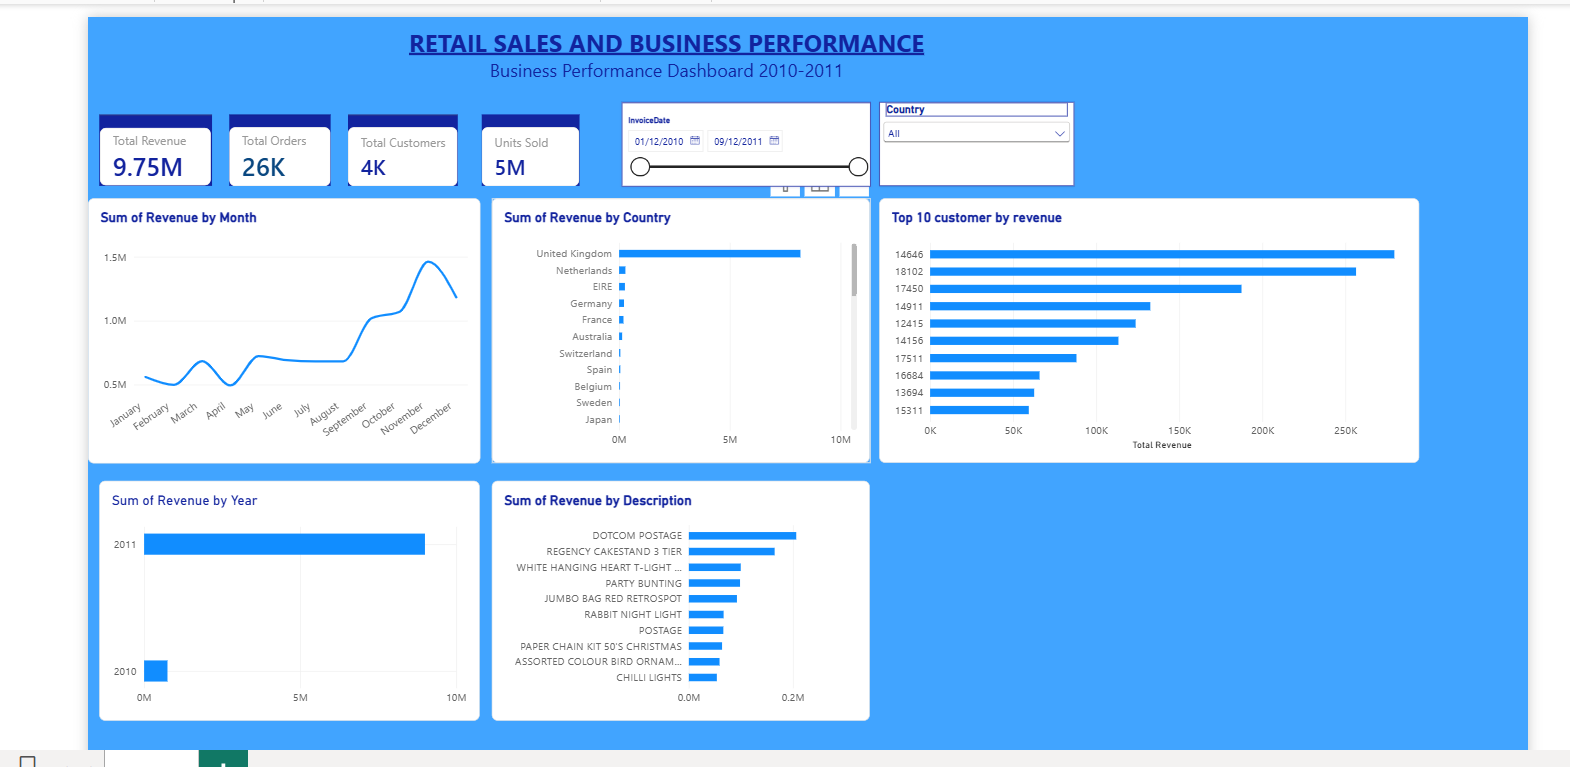

The dashboard page shown, as its layout file describes it:
{"tool":"powerbi","page":{"name":"Page 1","canvas":[1920,1080],"ordinal":0},"visuals":[{"type":"cardVisual","fields":{"Data":["data.Total Revenue"]},"box":[15,130,150,95],"z":0},{"type":"cardVisual","fields":{"Data":["data.total orders"]},"box":[188.3,130,135,95],"z":1000},{"type":"cardVisual","fields":{"Data":["data.total customers"]},"box":[346.7,130,146.7,95],"z":2000},{"type":"cardVisual","fields":{"Data":["data.units sold"]},"box":[525,130,130,95],"z":3000},{"type":"lineChart","title":"Sum of Revenue by Month","fields":{"Category":["data.InvoiceDate.Variation.Date Hierarchy.Month"],"Y":["Sum(data.Revenue)"]},"box":[0,241.7,523.3,353.3],"z":4000},{"type":"clusteredBarChart","title":"Sum of Revenue by Country","fields":{"Category":["data.Country"],"Y":["Sum(data.Revenue)"]},"box":[538.6,241.4,504.3,352.9],"z":5000},{"type":"clusteredBarChart","title":"Sum of Revenue by Description","fields":{"Category":["data.Description"],"Y":["Sum(data.Revenue)"]},"box":[538.6,618.6,504.3,320],"z":6000},{"type":"slicer","fields":{"Values":["data.Country"]},"box":[1055.6,113.9,260,111.7],"z":7000},{"type":"slicer","fields":{"Values":["data.InvoiceDate"]},"box":[711,114,332,113],"z":8000},{"type":"textbox","box":[0,11.4,1542.9,80],"z":9000},{"type":"clusteredBarChart","title":"Sum of Revenue by Year","fields":{"Category":["data.InvoiceDate.Variation.Date Hierarchy.Year"],"Y":["Sum(data.Revenue)"]},"box":[15.7,618.6,507.1,320],"z":10000},{"type":"clusteredBarChart","title":"Top 10 customer by revenue","fields":{"Category":["data.CustomerID"],"Y":["data.Total Revenue"]},"box":[1055.7,241.4,720,352.9],"z":12000}]}

Visuals, with their boxes in screenshot pixels (x1, y1, x2, y2):
cardVisual - data.Total Revenue: BBox(93, 45, 206, 117)
cardVisual - data.total orders: BBox(224, 45, 326, 117)
cardVisual - data.total customers: BBox(343, 45, 454, 117)
cardVisual - data.units sold: BBox(478, 45, 576, 117)
"Sum of Revenue by Month" lineChart: BBox(82, 129, 477, 396)
"Sum of Revenue by Country" clusteredBarChart: BBox(488, 129, 869, 395)
"Sum of Revenue by Description" clusteredBarChart: BBox(488, 414, 869, 655)
slicer - data.Country: BBox(878, 33, 1074, 117)
slicer - data.InvoiceDate: BBox(618, 33, 869, 118)
textbox: BBox(82, 0, 1246, 16)
"Sum of Revenue by Year" clusteredBarChart: BBox(94, 414, 476, 655)
"Top 10 customer by revenue" clusteredBarChart: BBox(878, 129, 1421, 395)
